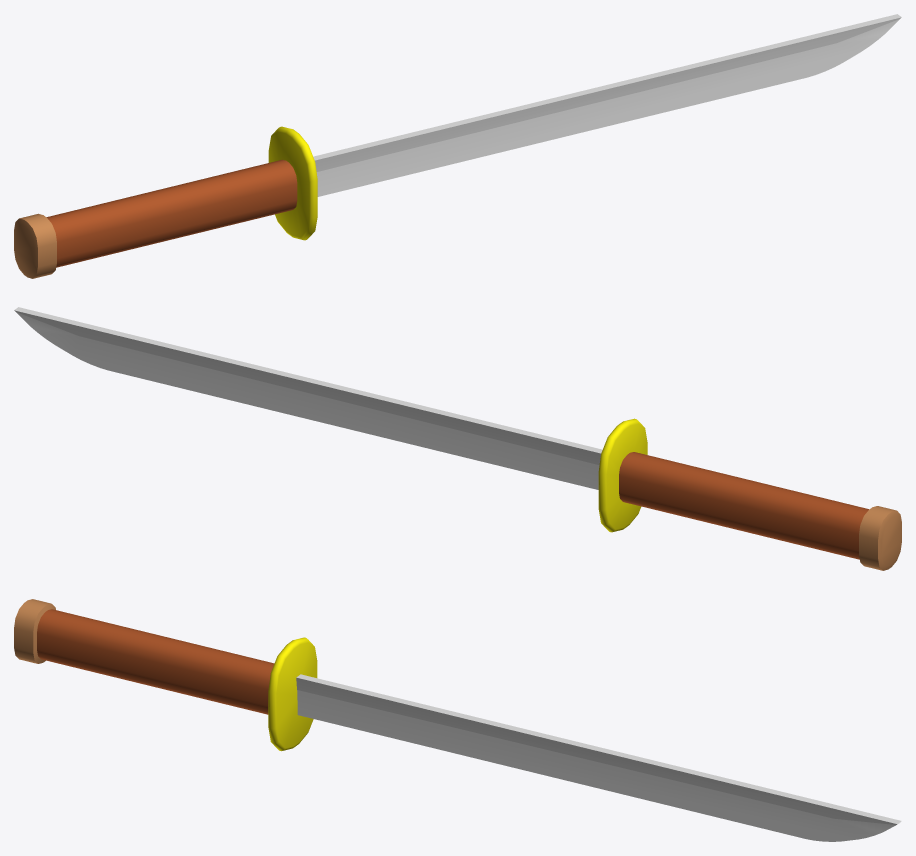
The model's file is Katana.fbx.
3 views of the same model, one above another, from view 1: azimuth 30°, elevation 25°; view 2: azimuth 150°, elevation 25°; view 3: azimuth 330°, elevation 25° (orthographic).
Visible parts, largest first — view 1: Katana; view 2: Katana; view 3: Katana.
Part boxes in pixels (left/top/right/bottom): Katana: left=14, top=14, right=901, bottom=278; Katana: left=14, top=307, right=901, bottom=570; Katana: left=14, top=599, right=901, bottom=841.
Size of the model in its own units: 97.62 by 11.1 by 8.42.
